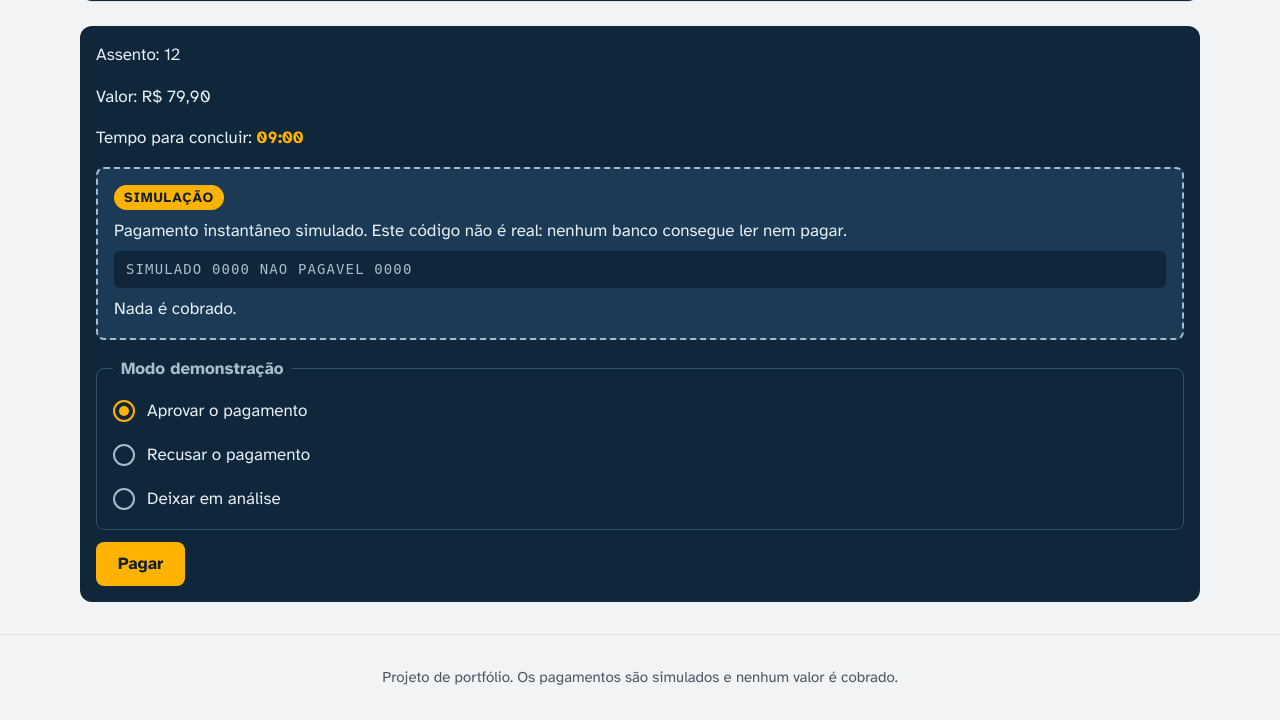
Scenario: PaymentPage: resultado do pagamento › seat_lost (409): mostra a mensagem da API e leva a escolher outro assento
(page scrolled)
Click the button "Pagar" at (141, 564), box [96, 542, 186, 586]
(page scrolled)
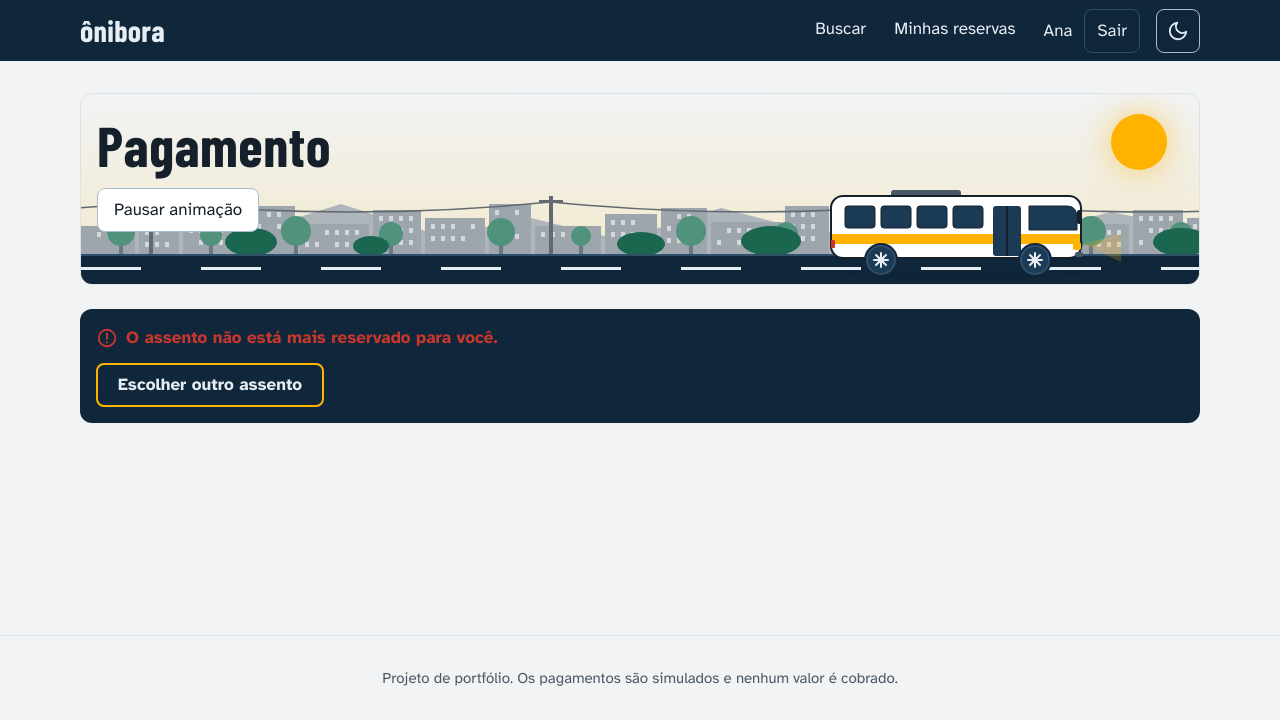
Check: the message reads "O assento não está mais reservado para você.", box [126, 327, 498, 348]
Check: the text "Pagar" is gone
